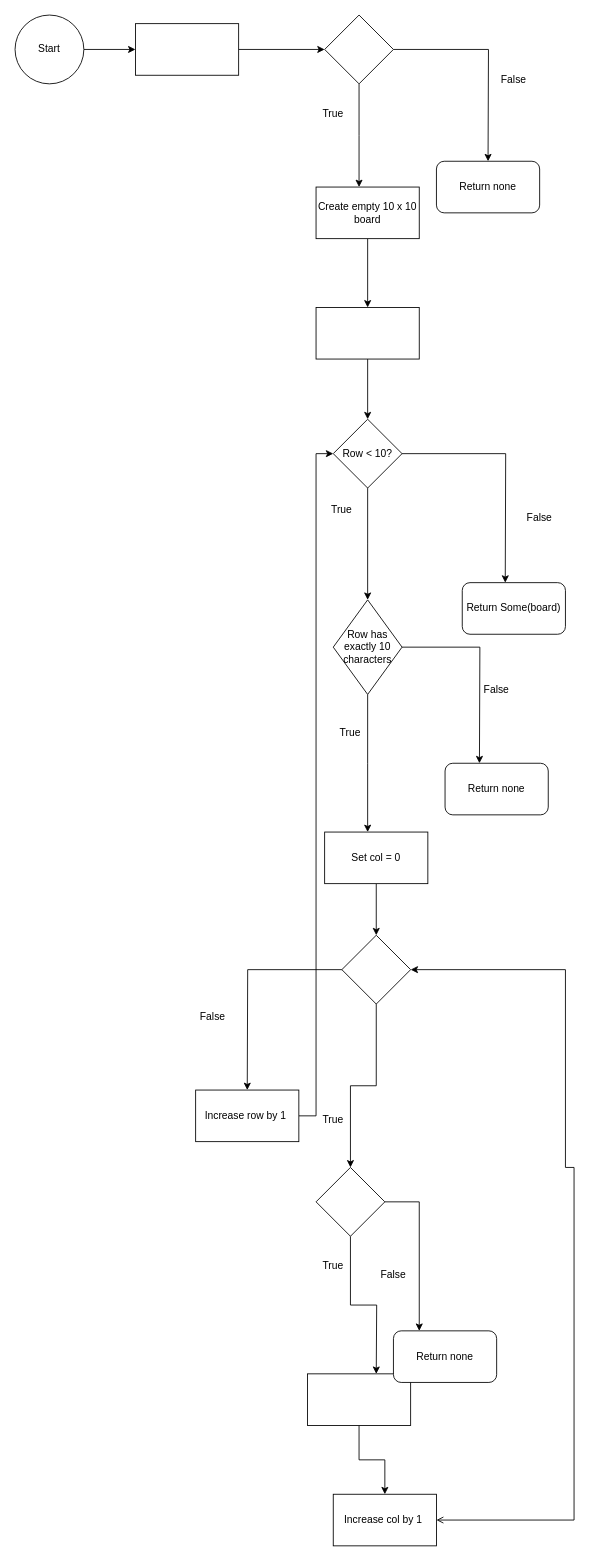
The diagram is 597 pixels wide and 1561 high, and some of its shapes have lost their labels. The shapes that lost their labels are listed below. From the top down, each one's centre as x and y in pixels, then its label:
point (187, 49): Collect actual rows
point (358, 49): Exactly 10 rows?
point (367, 333): Set row = 0
point (376, 969): Col < 10?
point (350, 1201): Character is "." or "S"
point (359, 1399): Set board[row][col] to Water or Ship
